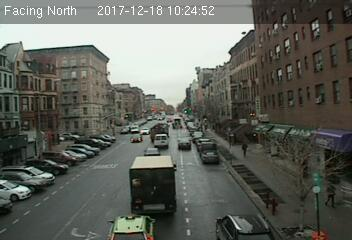car: (216, 214, 274, 239), (200, 149, 219, 164), (176, 138, 191, 150)
truck: (153, 133, 169, 148)
ups: (129, 155, 178, 217)
